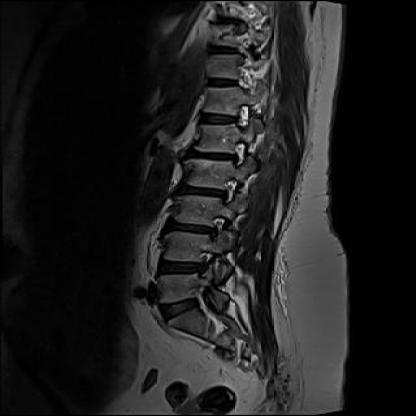Disc Bulgerotation: (150, 256, 215, 283), (177, 146, 248, 170), (168, 184, 238, 206), (157, 221, 225, 241)
